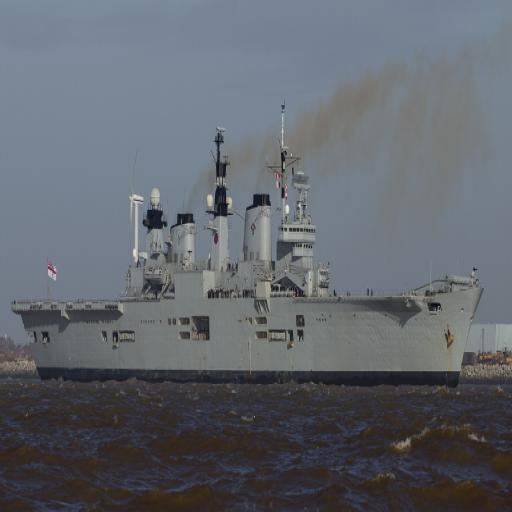Portanaves: (14, 92, 487, 398)
